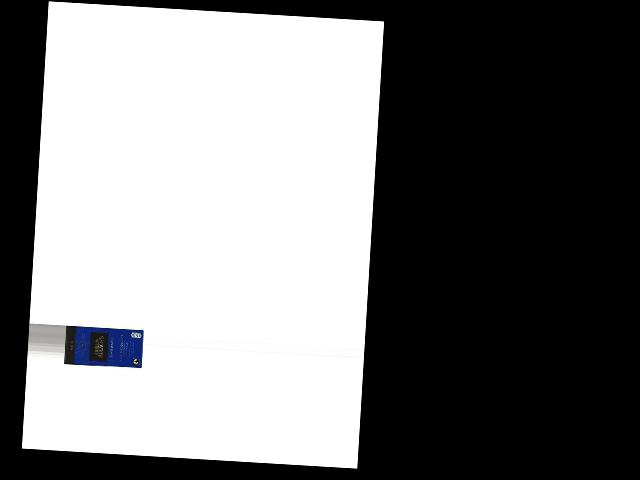chocolate: (64, 324, 142, 368)
